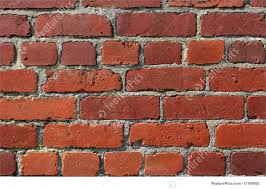brick: (124, 65, 206, 92), (162, 94, 245, 120), (129, 120, 211, 146), (40, 121, 125, 146), (117, 11, 197, 37), (33, 11, 112, 37), (80, 94, 161, 119), (1, 98, 79, 121), (200, 12, 266, 37), (208, 64, 266, 92), (43, 70, 122, 90), (214, 123, 266, 149), (102, 150, 144, 176), (188, 149, 227, 176), (1, 122, 39, 149), (187, 39, 226, 65), (20, 150, 59, 176), (145, 150, 184, 176), (229, 150, 266, 177), (21, 40, 58, 66), (62, 151, 100, 176), (102, 39, 139, 64), (144, 41, 182, 65), (61, 39, 95, 65), (230, 40, 266, 63), (1, 69, 37, 92), (1, 14, 32, 37), (1, 1, 79, 9), (82, 1, 158, 7), (247, 95, 266, 119), (168, 1, 242, 7), (1, 151, 17, 177), (1, 42, 15, 66)
